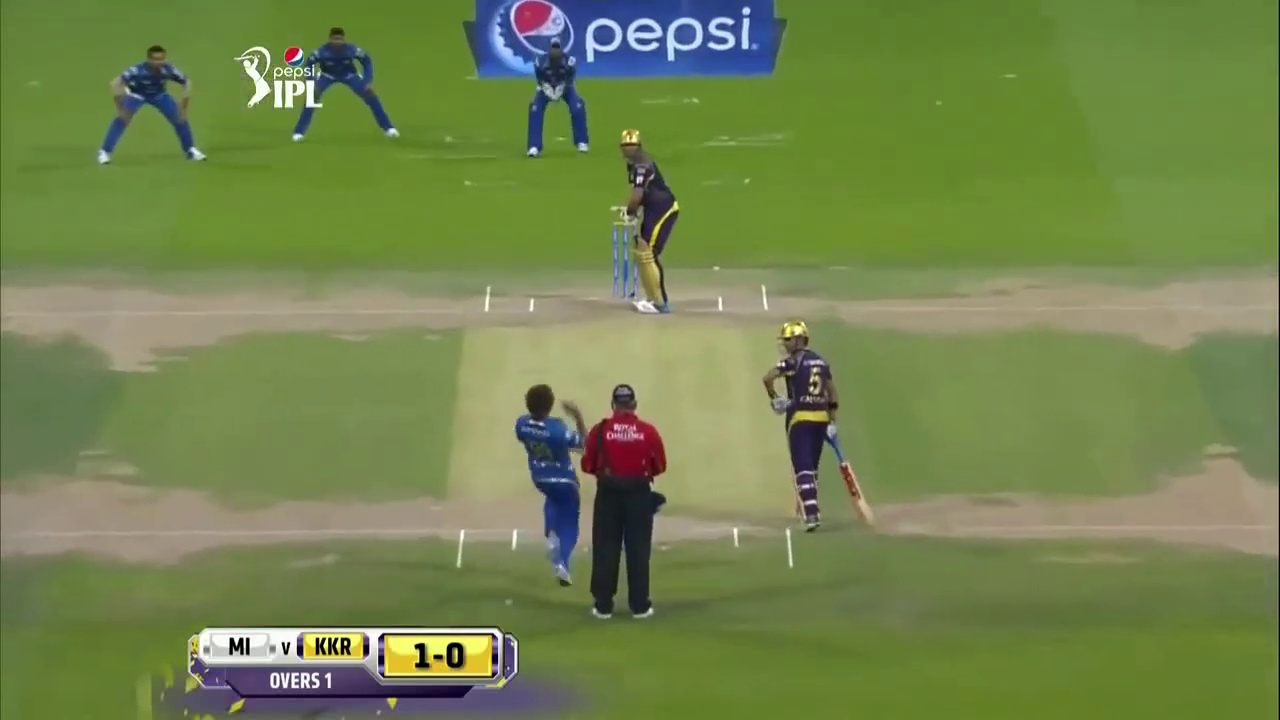bat: (831, 443, 880, 529)
